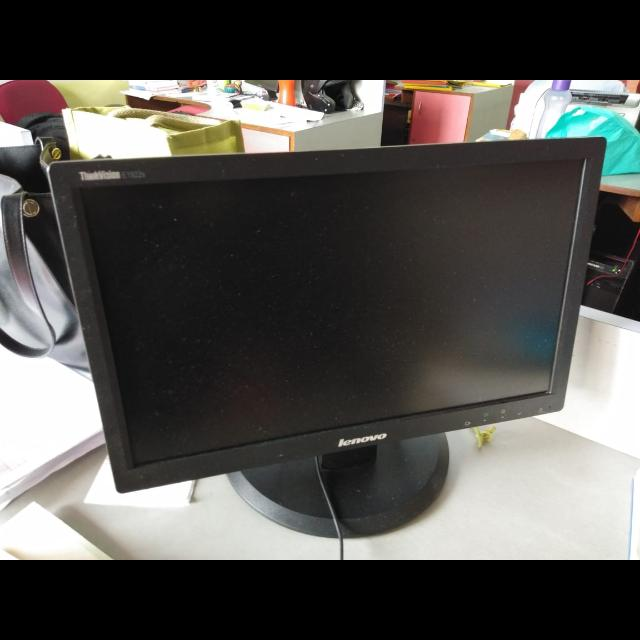Flat-Panel-Monitor: (45, 128, 611, 544)
